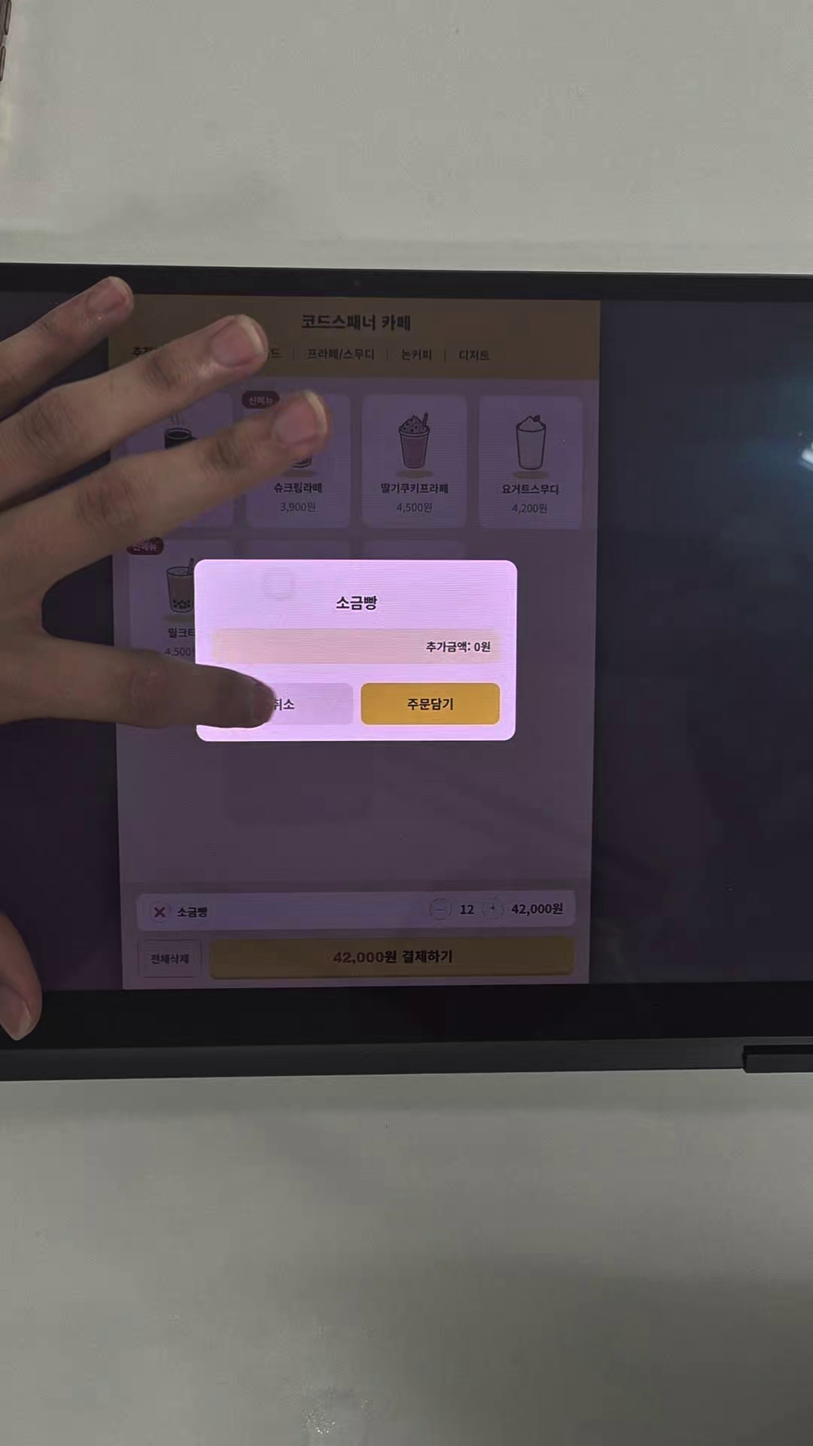action_button: (359, 679, 504, 728), (216, 683, 357, 722)
popup_modal: (192, 558, 515, 739)
